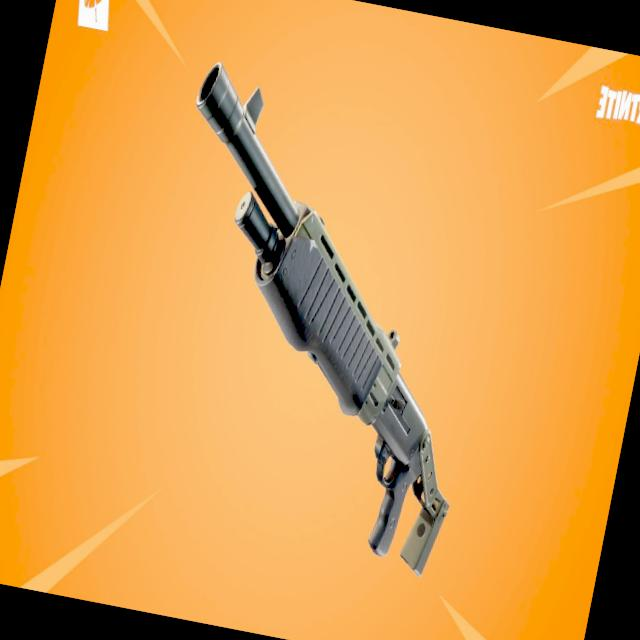shotgun: (56, 47, 598, 615)
